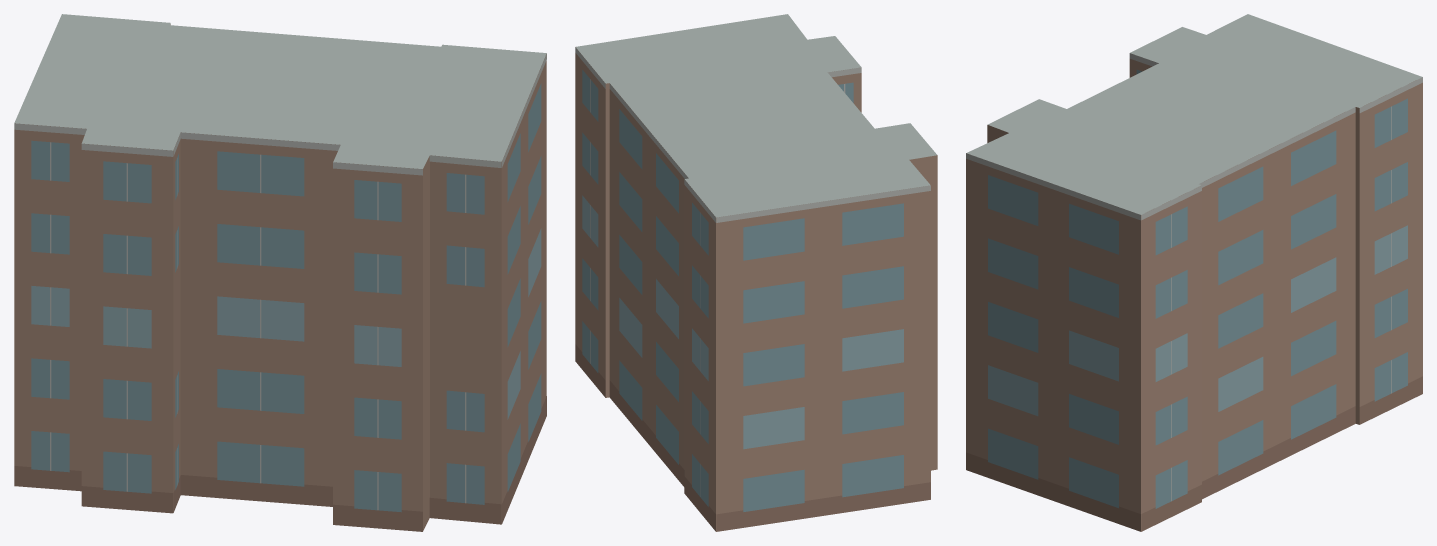
Rendered from survey-upis-33003734.glb.
3 renders of one model, left to right at view 1: azimuth 30°, elevation 25°; view 2: azimuth 150°, elevation 25°; view 3: azimuth 270°, elevation 25°, orthographic. The views are drawn at different scales.
Visible parts, largest first — view 1: survey-upis-33003734.tmp; view 2: survey-upis-33003734.tmp; view 3: survey-upis-33003734.tmp.
Boxes of the visible parts, bbox=[...] form: survey-upis-33003734.tmp: bbox=[14, 14, 546, 531]; survey-upis-33003734.tmp: bbox=[575, 14, 937, 531]; survey-upis-33003734.tmp: bbox=[966, 14, 1422, 531].
Size of the model in its own units: 18.91 by 13.9 by 18.16.
